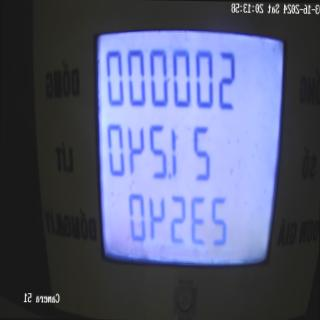screen: (86, 4, 290, 294)
